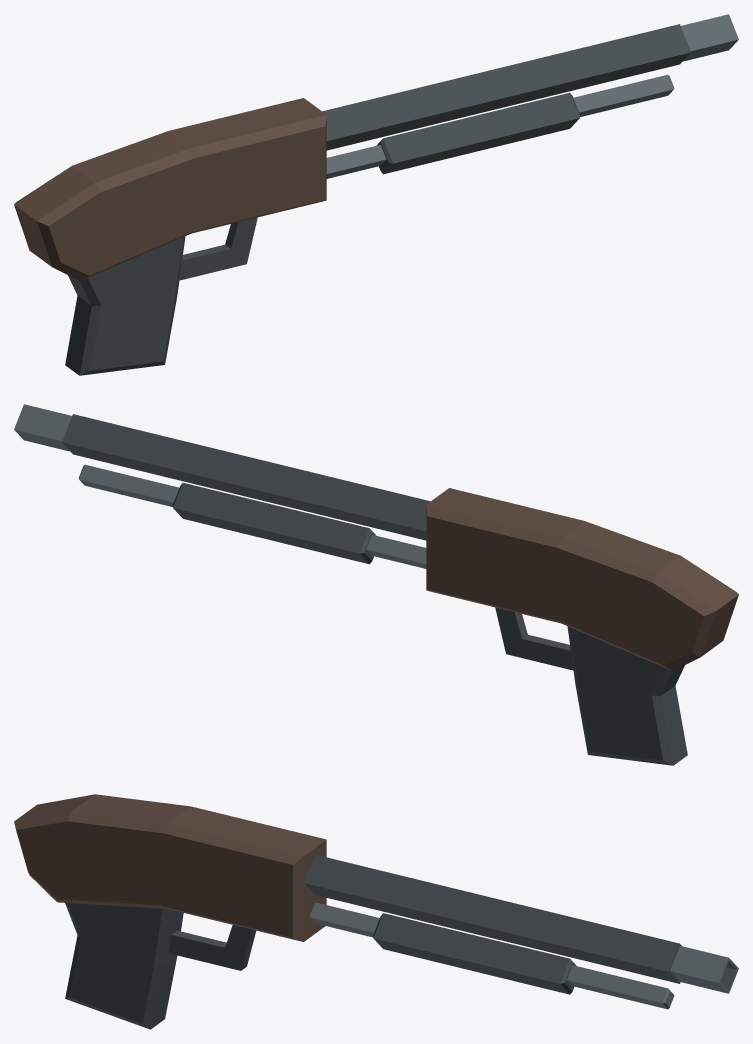
Rendered from shotgun.glb.
3 renders of one model, top to bottom at view 1: azimuth 30°, elevation 25°; view 2: azimuth 150°, elevation 25°; view 3: azimuth 330°, elevation 25°, orthographic.
Visible parts, largest first — view 1: body_Cube, reloader_Cube.001; view 2: body_Cube, reloader_Cube.001; view 3: body_Cube, reloader_Cube.001.
Boxes of the visible parts, x1,y1,x2,y2 form: body_Cube: (14, 14, 738, 375); reloader_Cube.001: (377, 92, 580, 174); body_Cube: (14, 404, 738, 765); reloader_Cube.001: (172, 482, 375, 564); body_Cube: (14, 794, 738, 1029); reloader_Cube.001: (373, 913, 576, 994).
Size of the model in its own units: 0.6461 by 0.1886 by 0.0521.
